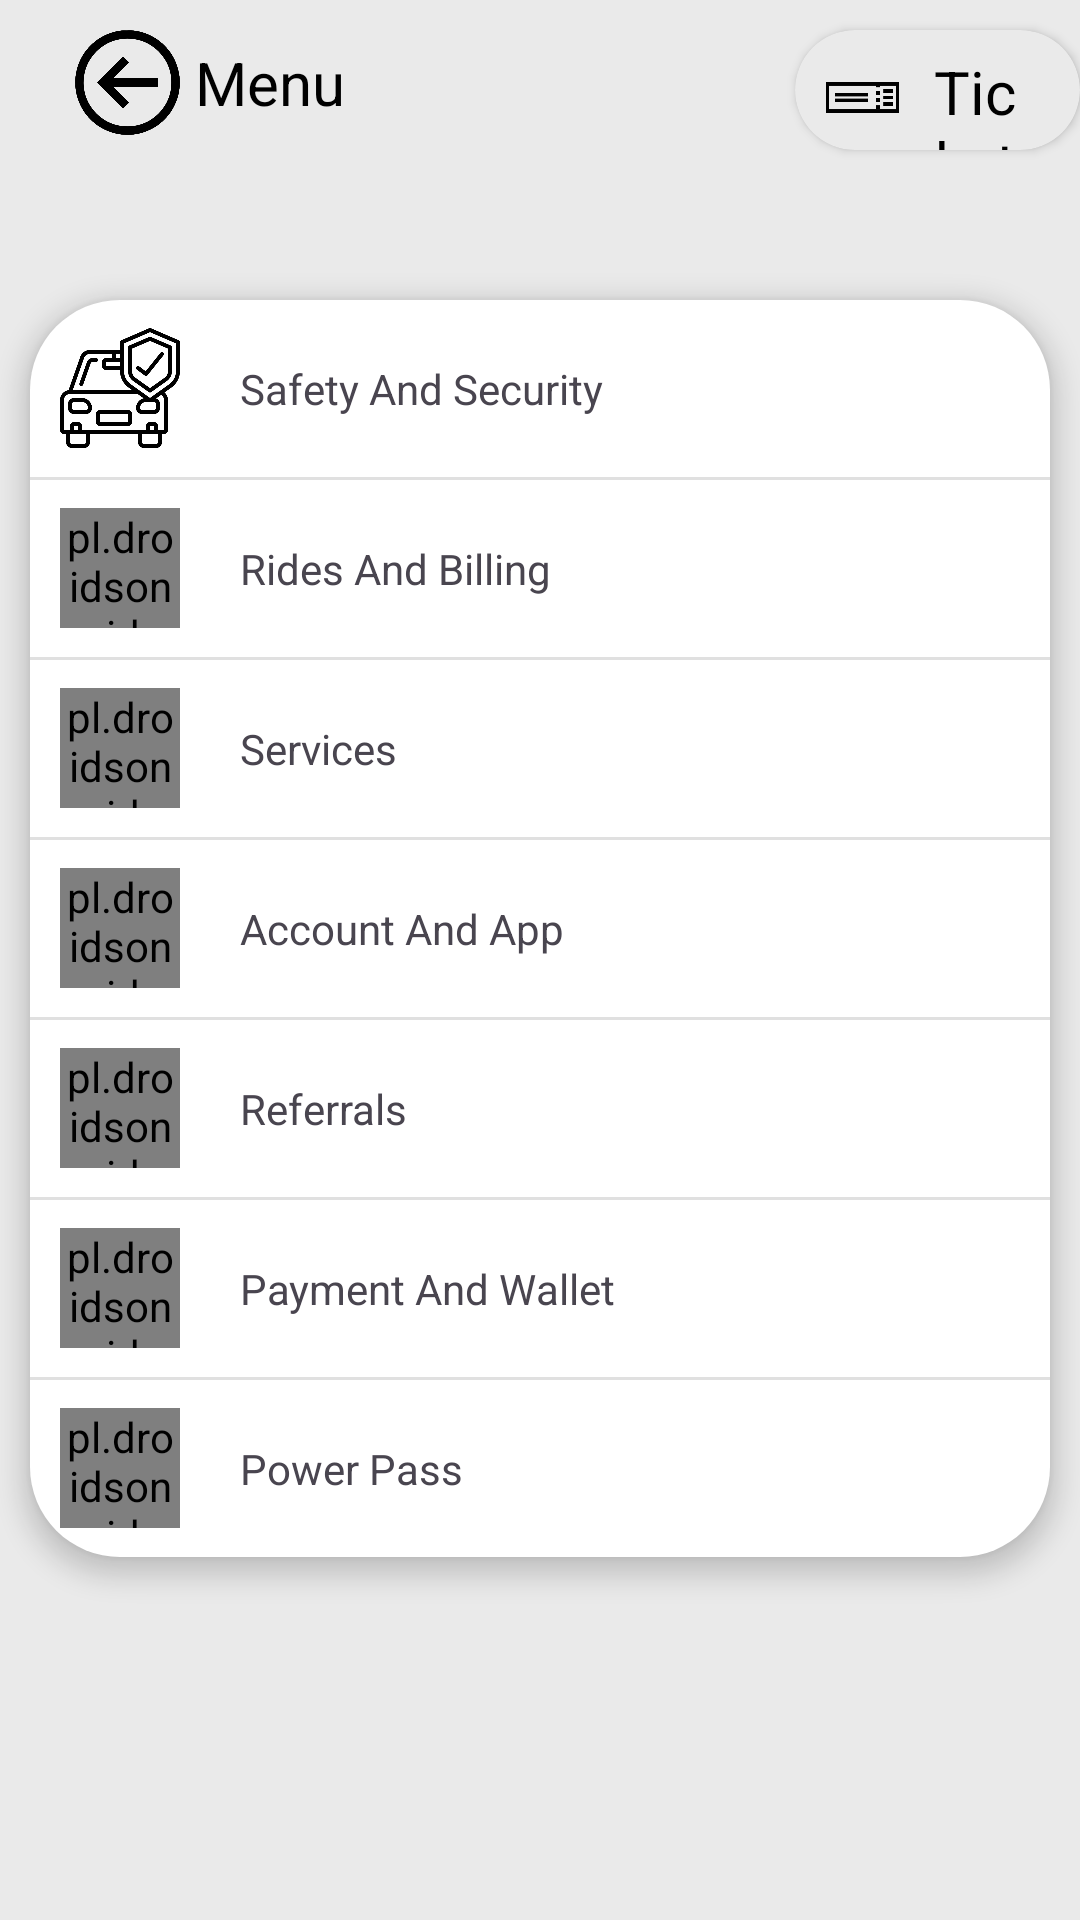

Icon bounding boxes for this 1080 x 1920 phone screenshot, format (x1, y1, x2, y2):
arrow: (75, 30, 180, 135)
